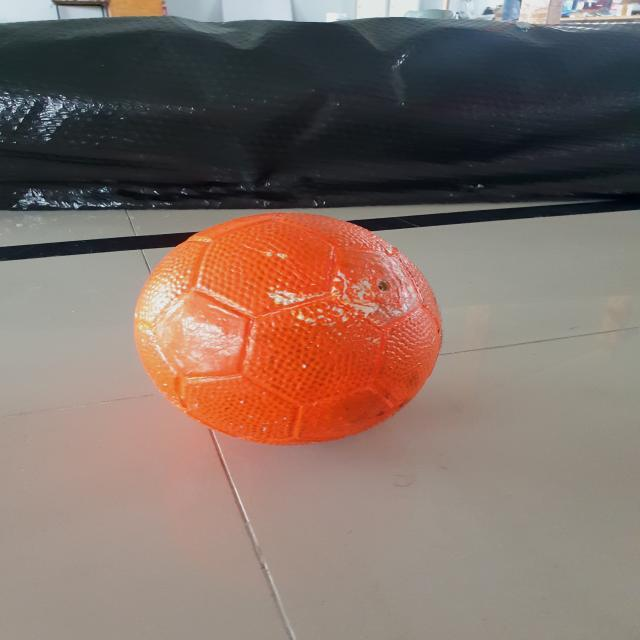bola: (116, 202, 458, 456)
